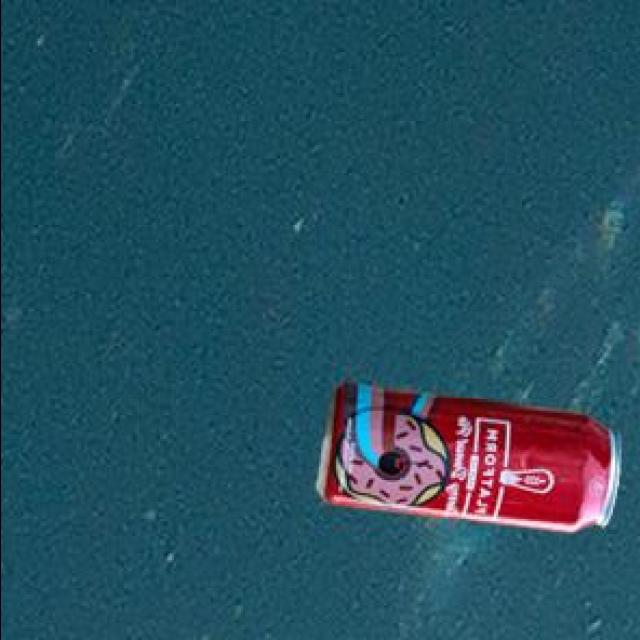logam: (319, 386, 622, 535)
